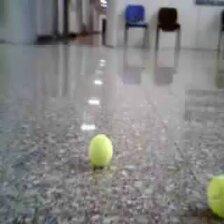tennis: (89, 134, 113, 165), (207, 174, 224, 217)
